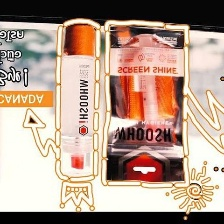cleaning_solution: (53, 19, 101, 184)
